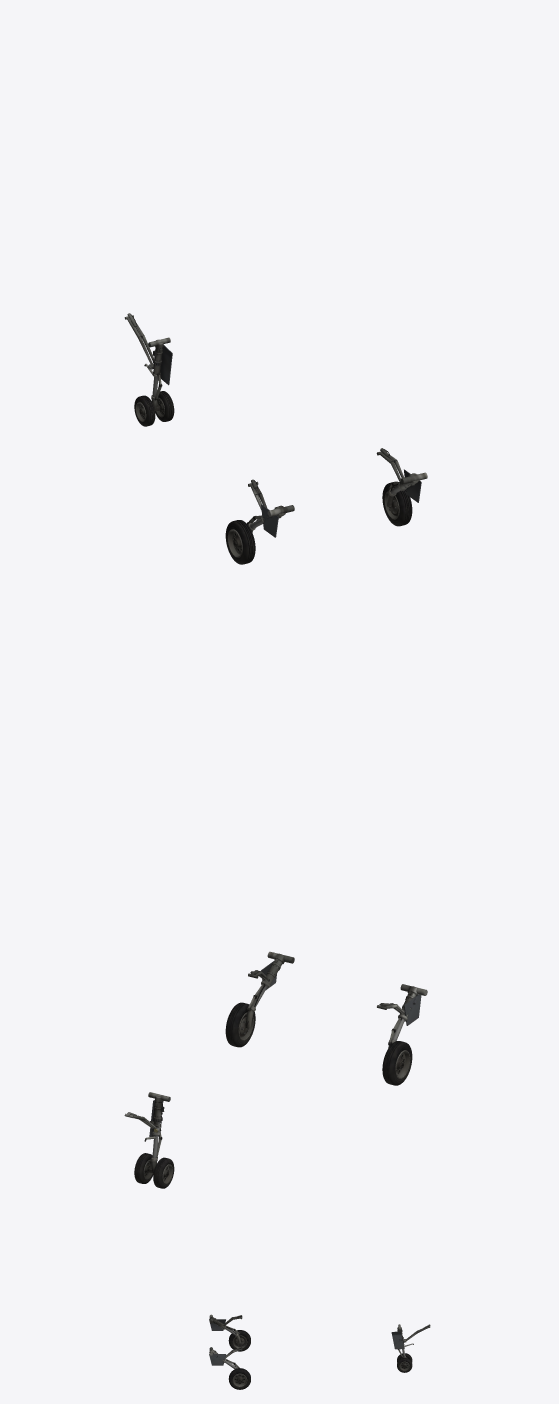
The model's file is f18_gear.glb.
The picture shows the model from 3 angles, top to bottom: view 1: azimuth 30°, elevation 25°; view 2: azimuth 150°, elevation 25°; view 3: azimuth 270°, elevation 25°; orthographic projection. The views are drawn at different scales.
Parts seen in each view (by area): view 1: body|F18_paint; view 2: body|F18_paint; view 3: body|F18_paint.
Part boxes in pixels (x1,y1,x2,y2): body|F18_paint: (124, 313, 427, 564); body|F18_paint: (124, 951, 427, 1188); body|F18_paint: (209, 1314, 430, 1389).
Bounding box in the file's own units: 3.4 × 5.89 × 18.54.
Materials: 1 (1 with a texture image).
